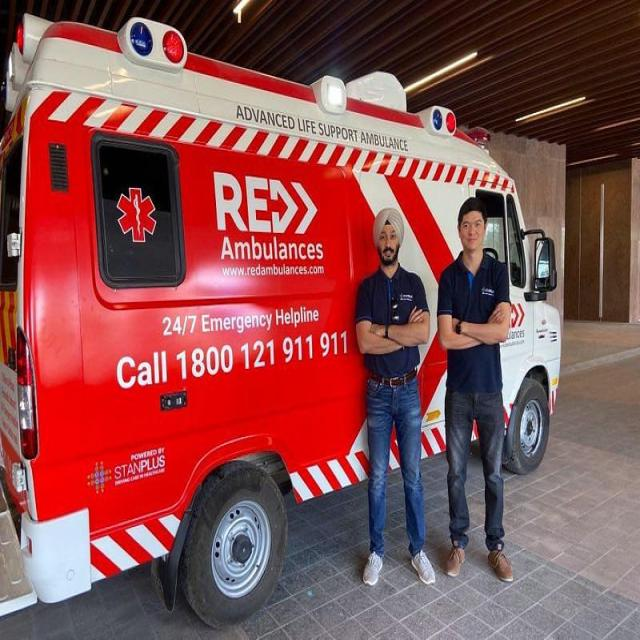emergency: (0, 14, 561, 624)
